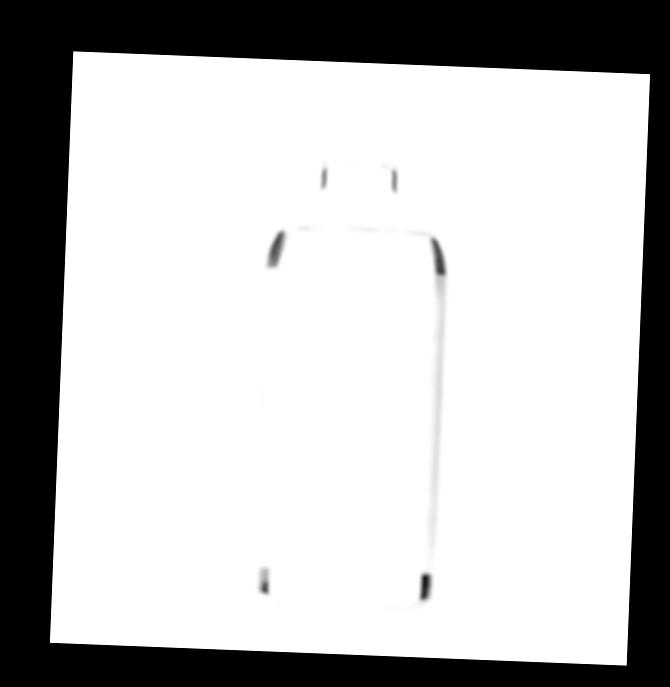cosmetic: (249, 92, 451, 607)
